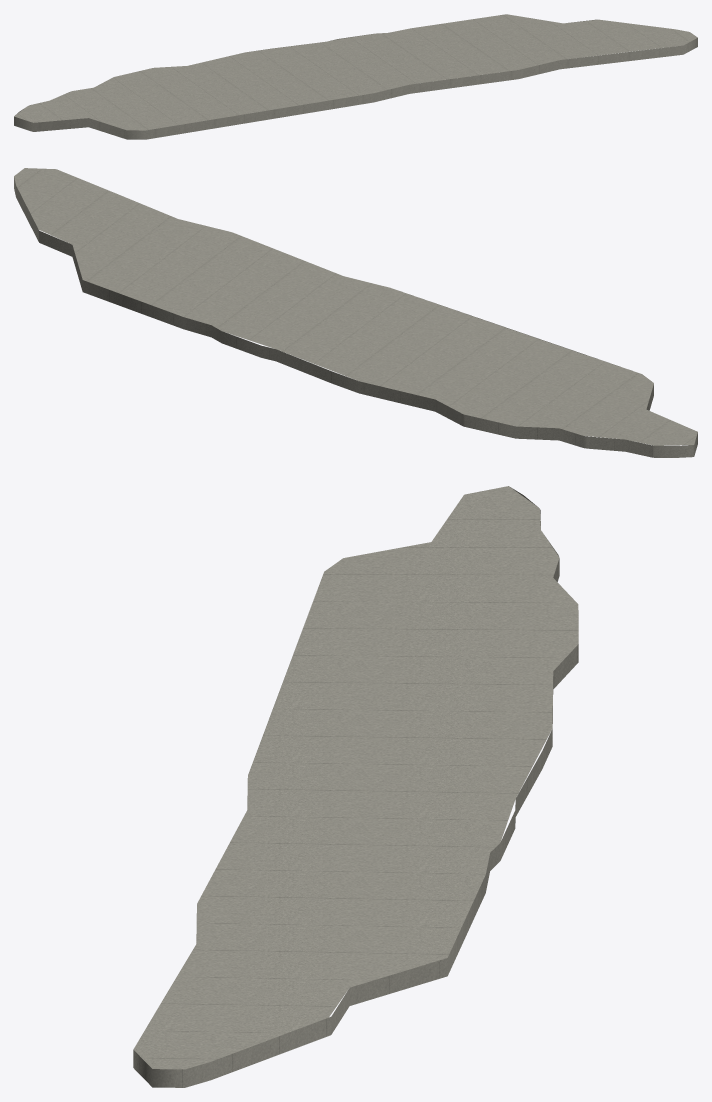
The model's file is curb_04.gltf.
3 views of the same model, one above another, from view 1: azimuth 30°, elevation 25°; view 2: azimuth 150°, elevation 25°; view 3: azimuth 270°, elevation 25° (orthographic). The views are drawn at different scales.
Parts seen in each view (by area): view 1: curb_04.surface, curb_04.sides; view 2: curb_04.surface, curb_04.sides; view 3: curb_04.surface, curb_04.sides.
Boxes of the visible parts, bbox=[...] form: curb_04.surface: bbox=[14, 14, 697, 130]; curb_04.sides: bbox=[14, 19, 697, 139]; curb_04.surface: bbox=[14, 168, 697, 445]; curb_04.sides: bbox=[14, 177, 697, 457]; curb_04.surface: bbox=[133, 486, 578, 1069]; curb_04.sides: bbox=[133, 487, 578, 1087].
Size of the model in its own units: 10.8 by 0.2152 by 3.5.
1 material, 1 textured.
